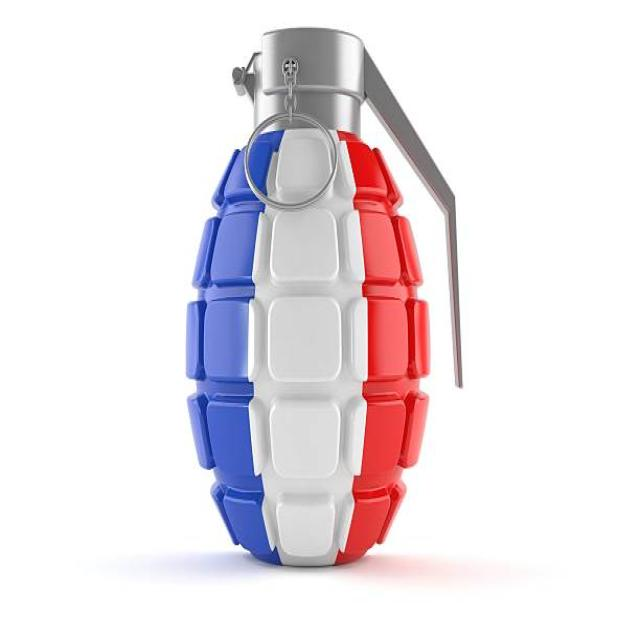grenade: (178, 18, 470, 571)
